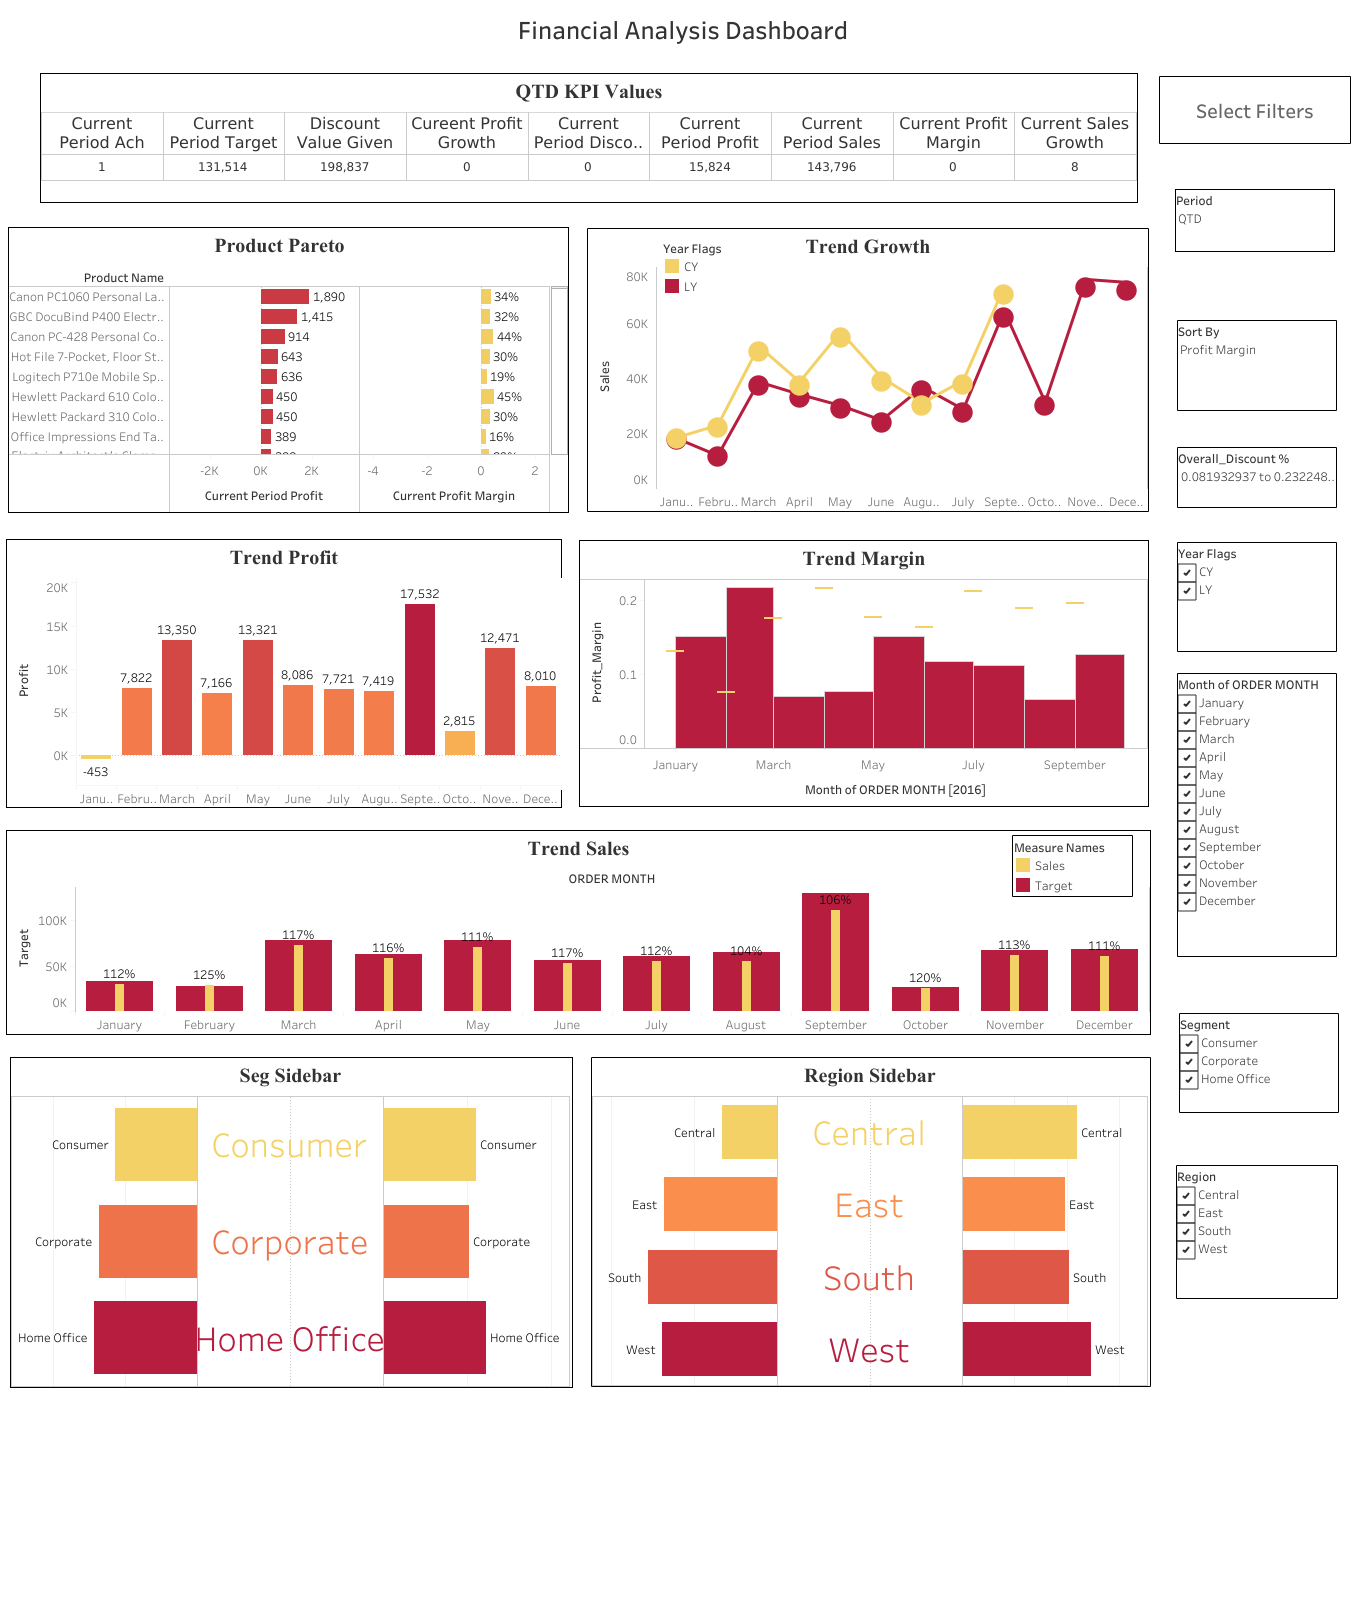

The page's visual inventory and layout, read from the dashboard file:
{"tool":"tableau","page":{"name":"Dashboard 1","canvas":[1366,1600],"ordinal":0},"visuals":[{"type":"title","box":[8,8,1350,41]},{"type":"worksheet","title":"QTD KPI Values","mark":"Automatic","box":[40,73,1098,130]},{"type":"text","box":[1159,76,192,68]},{"type":"parameter","param":"[Parameters].[Parameter 1]","box":[1180,180,160,63]},{"type":"worksheet","title":"Product Pareto","mark":"Automatic","rows":["Product Name"],"cols":["Calculation_494833028317999144","Calculation_494833028324413493"],"box":[8,227,561,286]},{"type":"worksheet","title":"Trend Growth","mark":"Line","rows":["Sales","Sales"],"cols":["Calculation_494833028278755330"],"box":[587,228,562,284]},{"type":"legend","title":"Trend Growth","param":"[federated.1ca3tix0yon0xs1edmiu51gw9pb1].[none:Calculation_494833028289732614:nk","box":[662,237,140,58]},{"type":"parameter","param":"[Parameters].[Parameter 2]","box":[1177,320,160,91]},{"type":"filter","title":"Trend Margin","param":"[federated.1ca3tix0yon0xs1edmiu51gw9pb1].[usr:Calculation_494833028311302177:qk]","box":[1177,447,160,61]},{"type":"worksheet","title":"Trend Profit","mark":"Bar","rows":["Profit"],"cols":["Calculation_494833028278755330"],"box":[6,539,556,269]},{"type":"worksheet","title":"Trend Margin","mark":"Bar","rows":["Calculation_494833028307632150","Calculation_494833028311302177"],"cols":["Calculation_494833028278755330"],"box":[579,540,570,267]},{"type":"filter","title":"Trend Profit","param":"[federated.1ca3tix0yon0xs1edmiu51gw9pb1].[none:Calculation_494833028289732614:nk","box":[1177,542,160,110]},{"type":"filter","title":"Trend Sales","param":"[federated.1ca3tix0yon0xs1edmiu51gw9pb1].[mn:Calculation_494833028278755330:ok]","box":[1177,673,160,284]},{"type":"worksheet","title":"Trend Sales","mark":"Bar","rows":["Target","Sales"],"cols":["Calculation_494833028278755330"],"box":[6,830,1145,205]},{"type":"legend","title":"Trend Sales","param":"[federated.1ca3tix0yon0xs1edmiu51gw9pb1].[:Measure Names]","box":[1012,835,121,62]},{"type":"filter","title":"Seg Sidebar","param":"[federated.1ca3tix0yon0xs1edmiu51gw9pb1].[none:Segment:nk]","box":[1179,1013,160,100]},{"type":"worksheet","title":"Seg Sidebar","mark":"Automatic","rows":["Segment"],"cols":["Calculation_494833028307632150","Calculation_328481327434833923","Calculation_494833028319404077"],"box":[10,1057,563,331]},{"type":"worksheet","title":"Region Sidebar","mark":"Automatic","rows":["Region"],"cols":["Calculation_494833028307632150","Calculation_328481327434833923","Calculation_494833028319404077"],"box":[591,1057,560,330]},{"type":"filter","title":"Region Sidebar","param":"[federated.1ca3tix0yon0xs1edmiu51gw9pb1].[none:Region:nk]","box":[1176,1165,162,134]}]}

Visuals, with their boxes in screenshot pixels (x1, y1, x2, y2), scaled from the page's 1366x1600 canvas onto the 1365x1599 screenshot:
title: 8 8 1357 49
"QTD KPI Values" worksheet: 40 73 1137 203
text: 1158 76 1350 144
parameter: 1179 180 1339 243
"Product Pareto" worksheet: 8 227 569 513
"Trend Growth" worksheet (Line marks): 587 228 1148 512
"Trend Growth" legend: 662 237 801 295
parameter: 1176 320 1336 411
"Trend Margin" filter: 1176 447 1336 508
"Trend Profit" worksheet (Bar marks): 6 539 562 807
"Trend Margin" worksheet (Bar marks): 579 540 1148 806
"Trend Profit" filter: 1176 542 1336 652
"Trend Sales" filter: 1176 673 1336 956
"Trend Sales" worksheet (Bar marks): 6 829 1150 1034
"Trend Sales" legend: 1011 834 1132 896
"Seg Sidebar" filter: 1178 1012 1338 1112
"Seg Sidebar" worksheet: 10 1056 573 1387
"Region Sidebar" worksheet: 591 1056 1150 1386
"Region Sidebar" filter: 1175 1164 1337 1298
